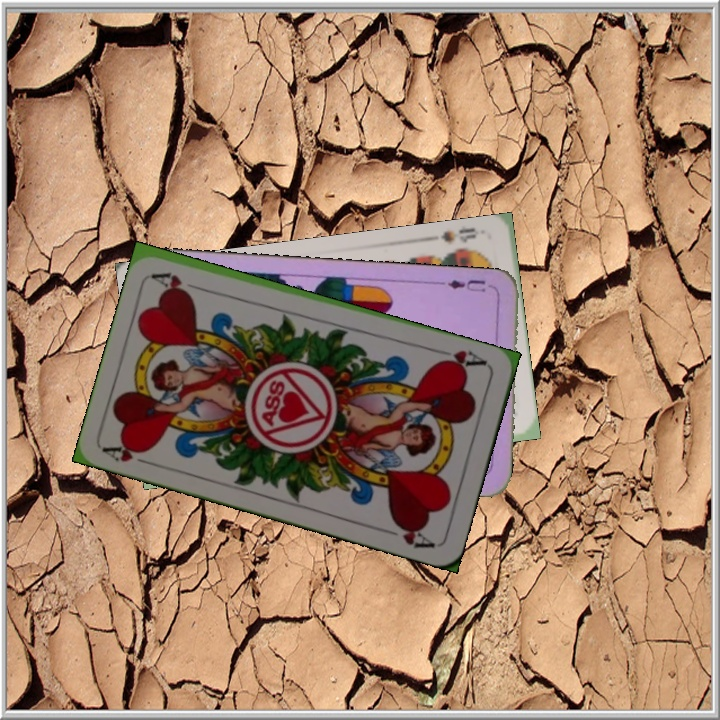EU: (438, 275, 488, 295)
HA: (101, 438, 159, 470), (432, 345, 490, 373)
S8: (437, 224, 478, 246)
